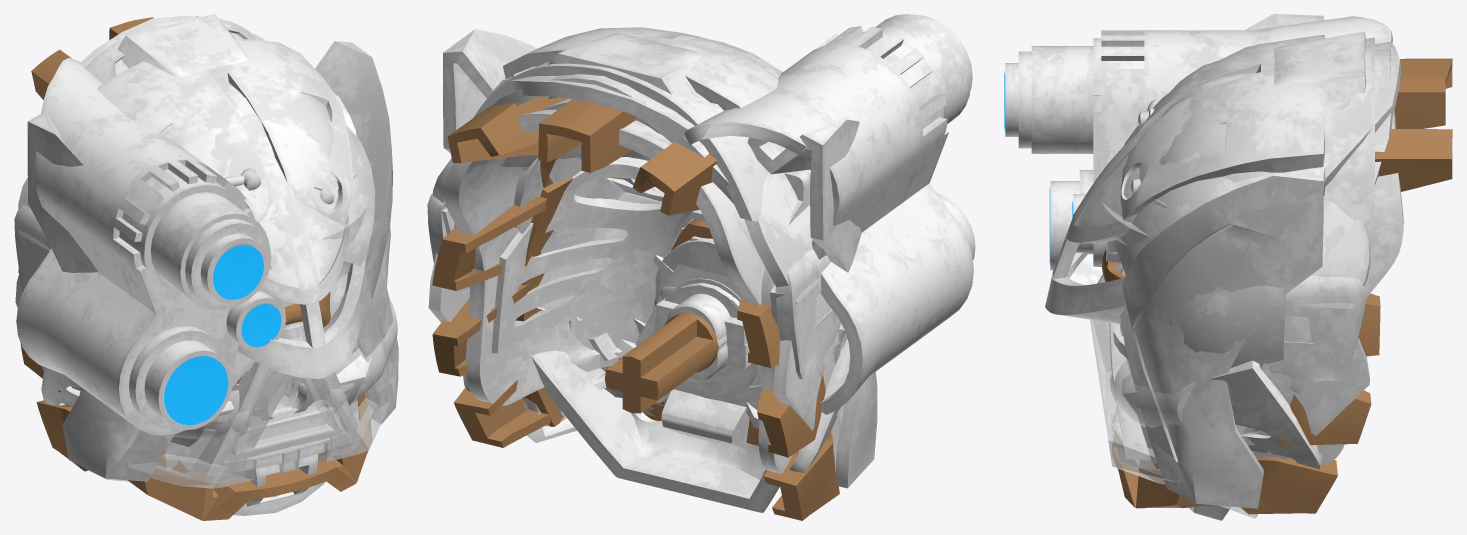
File: masks.glb
The picture shows the model from 3 angles, left to right: view 1: azimuth 30°, elevation 25°; view 2: azimuth 150°, elevation 25°; view 3: azimuth 270°, elevation 25°; orthographic projection. The views are drawn at different scales.
Visible parts, largest first — view 1: Akaku, Matatu, Miru, Kaukau, Avohkii, Pakari, Mahiki, Lens 1, Kakama, Lens 3, Huna, Rau (+2 smaller); view 2: Akaku, Avohkii, Hau, Pakari, Matatu, Rau, Mahiki, Miru, Kakama, Huna, Komau, Kaukau; view 3: Matatu, Akaku, Avohkii, Miru, Pakari, Kaukau, Rau, Kakama, Mahiki, Hau, Komau.
Part boxes in pixels (bbox=[...]): Akaku: bbox=[16, 16, 390, 435]; Matatu: bbox=[27, 39, 398, 481]; Miru: bbox=[85, 17, 367, 471]; Kaukau: bbox=[90, 206, 397, 488]; Avohkii: bbox=[18, 16, 371, 520]; Pakari: bbox=[14, 14, 297, 406]; Mahiki: bbox=[160, 82, 357, 204]; Lens 1: bbox=[164, 356, 228, 425]; Kakama: bbox=[41, 355, 371, 446]; Lens 3: bbox=[212, 244, 263, 299]; Huna: bbox=[245, 400, 319, 506]; Rau: bbox=[15, 17, 325, 515]; Akaku: bbox=[493, 14, 975, 414]; Avohkii: bbox=[432, 96, 839, 520]; Hau: bbox=[444, 109, 792, 473]; Pakari: bbox=[427, 33, 845, 512]; Matatu: bbox=[443, 27, 877, 488]; Rau: bbox=[428, 74, 839, 430]; Mahiki: bbox=[454, 35, 810, 378]; Miru: bbox=[473, 62, 840, 455]; Kakama: bbox=[463, 157, 850, 473]; Huna: bbox=[494, 98, 749, 449]; Komau: bbox=[432, 158, 820, 345]; Kaukau: bbox=[523, 296, 847, 461]; Matatu: bbox=[1106, 14, 1325, 508]; Akaku: bbox=[1005, 16, 1401, 367]; Avohkii: bbox=[1102, 58, 1452, 514]; Miru: bbox=[1045, 37, 1374, 464]; Pakari: bbox=[1188, 31, 1366, 520]; Kaukau: bbox=[1090, 202, 1257, 518]; Rau: bbox=[1177, 48, 1392, 508]; Kakama: bbox=[1122, 360, 1322, 469]; Mahiki: bbox=[1131, 60, 1323, 244]; Hau: bbox=[1321, 111, 1403, 464]; Komau: bbox=[1301, 218, 1371, 309].
Bounding box in the file's own units: 0.0999 × 0.1147 × 0.107.
14 materials, 12 textured.
